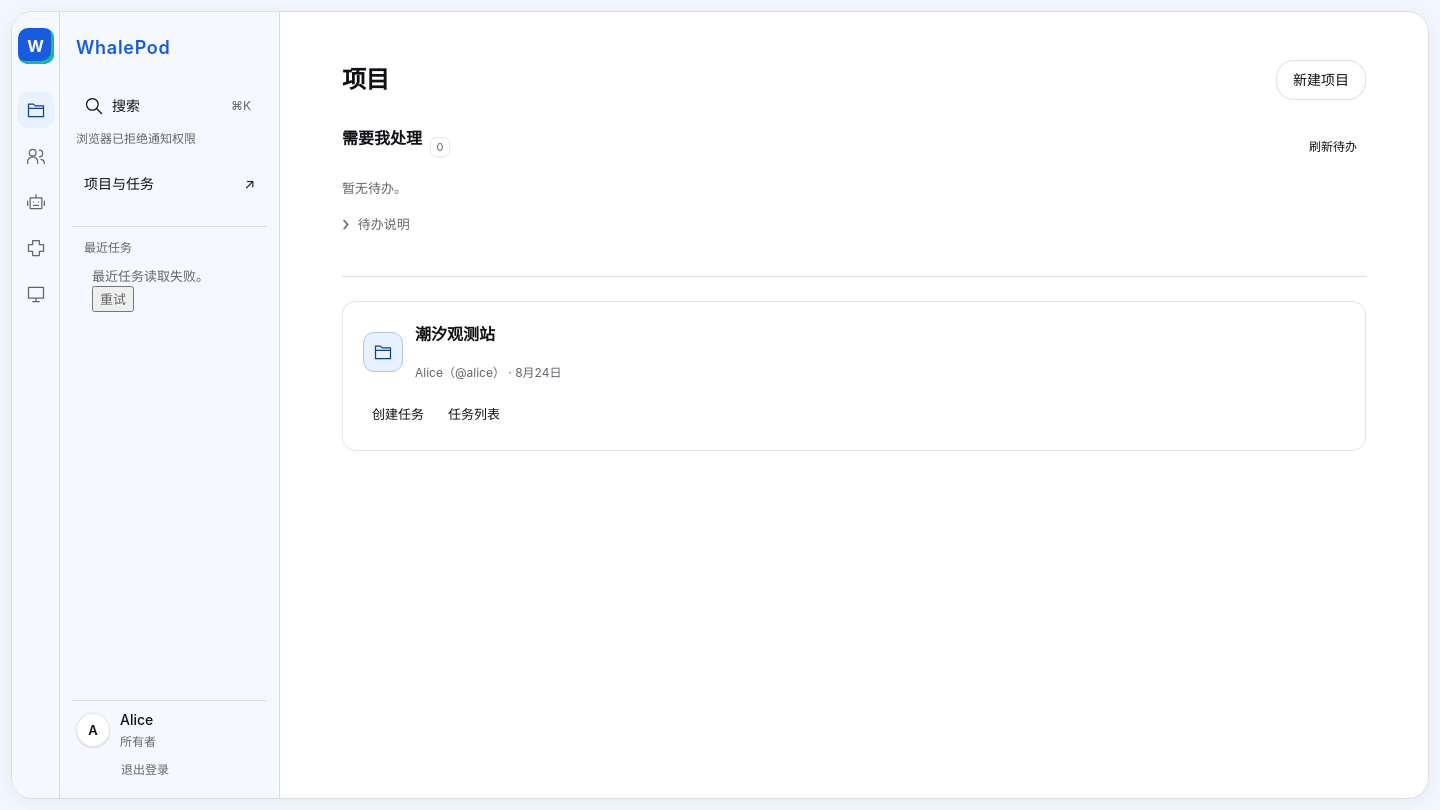
Test: #152 布局：项目页折叠表单与顶栏折叠入口 › 「新建项目」默认收起（aria-expanded=false 且无表单），点开后才出现表单
Check: the heading "潮汐观测站" is shown, box [415,324,495,344]
Check: the field labelled "项目名称" is not shown
What coordinates should you click on to do the following:
click the button "新建项目"
I would click on:
 (1321, 80)
Its box is [1276,60,1366,100].
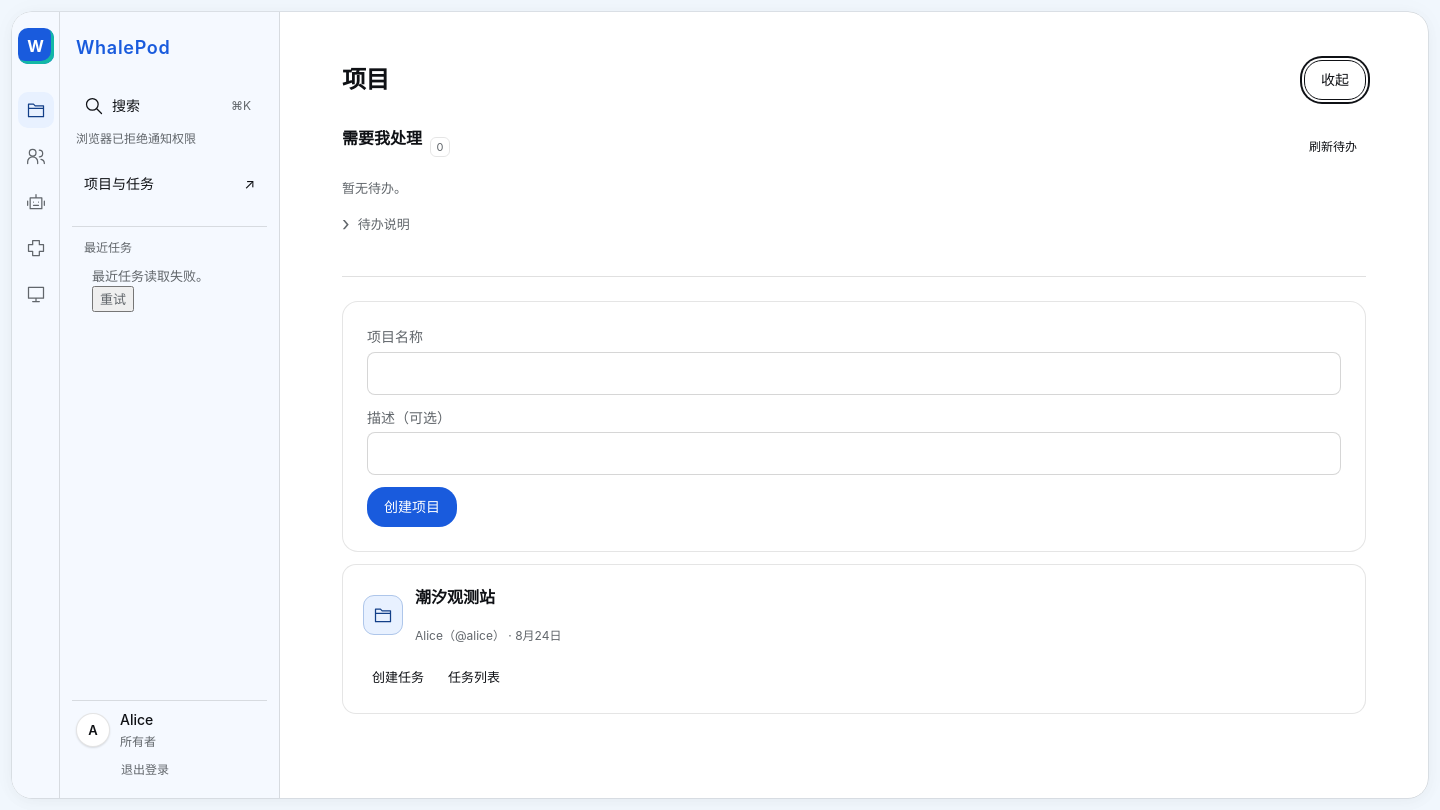
Check: the button "收起" is expanded
Check: the field labelled "项目名称" is shown, box [367,352,1341,395]
What coordinates should you click on to do the following:
click the button "收起"
I would click on:
 (1335, 80)
Its box is [1304,60,1366,100].
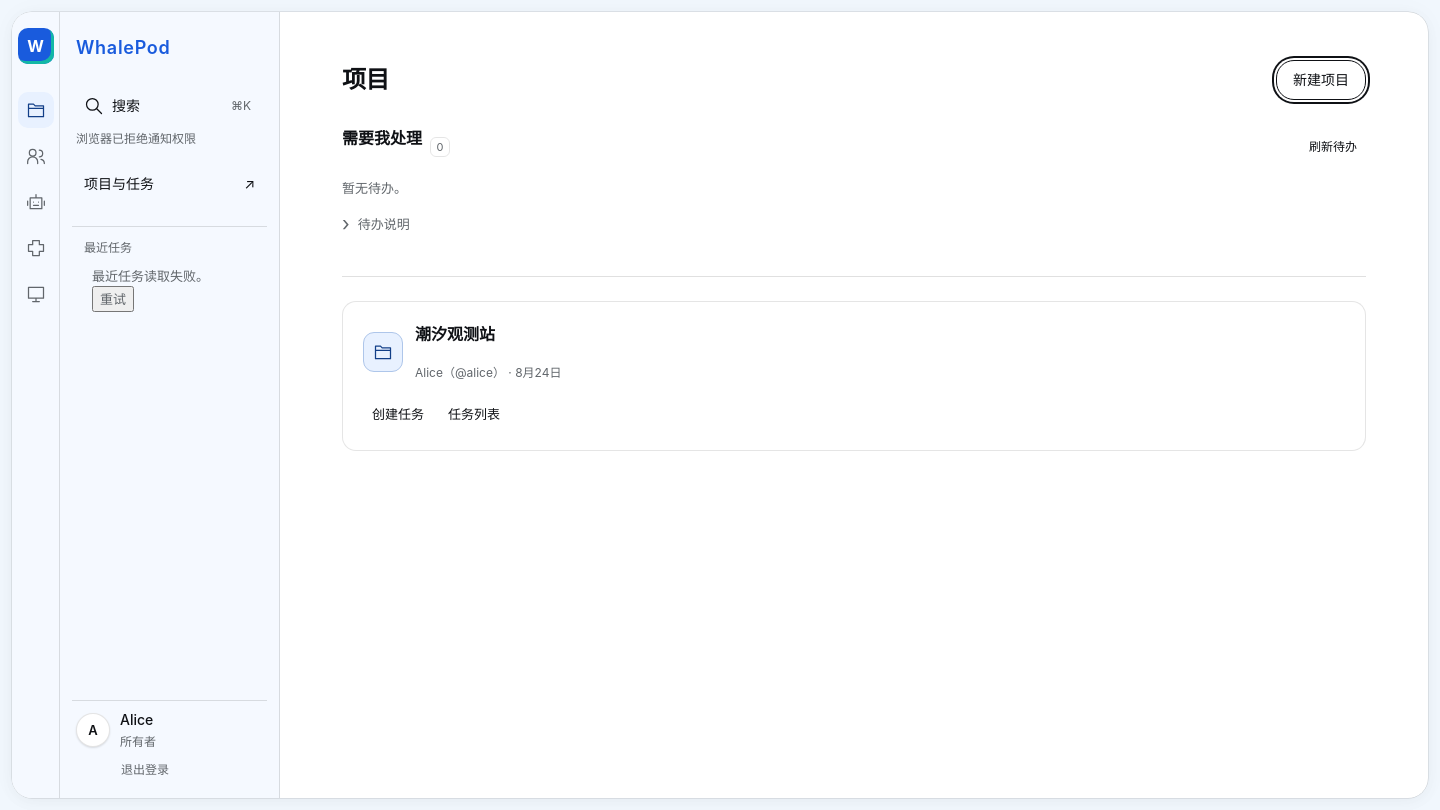
Check: the label labelled "项目名称" is gone
